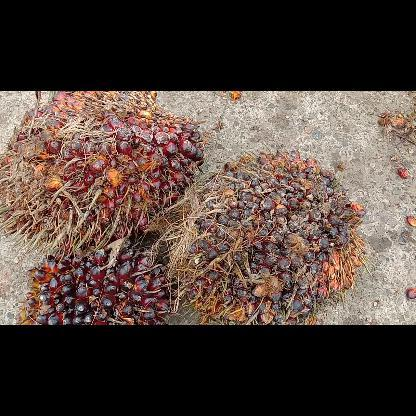Kurang masak: (185, 152, 363, 324), (16, 250, 172, 324)
TBS masak: (0, 90, 205, 254)
